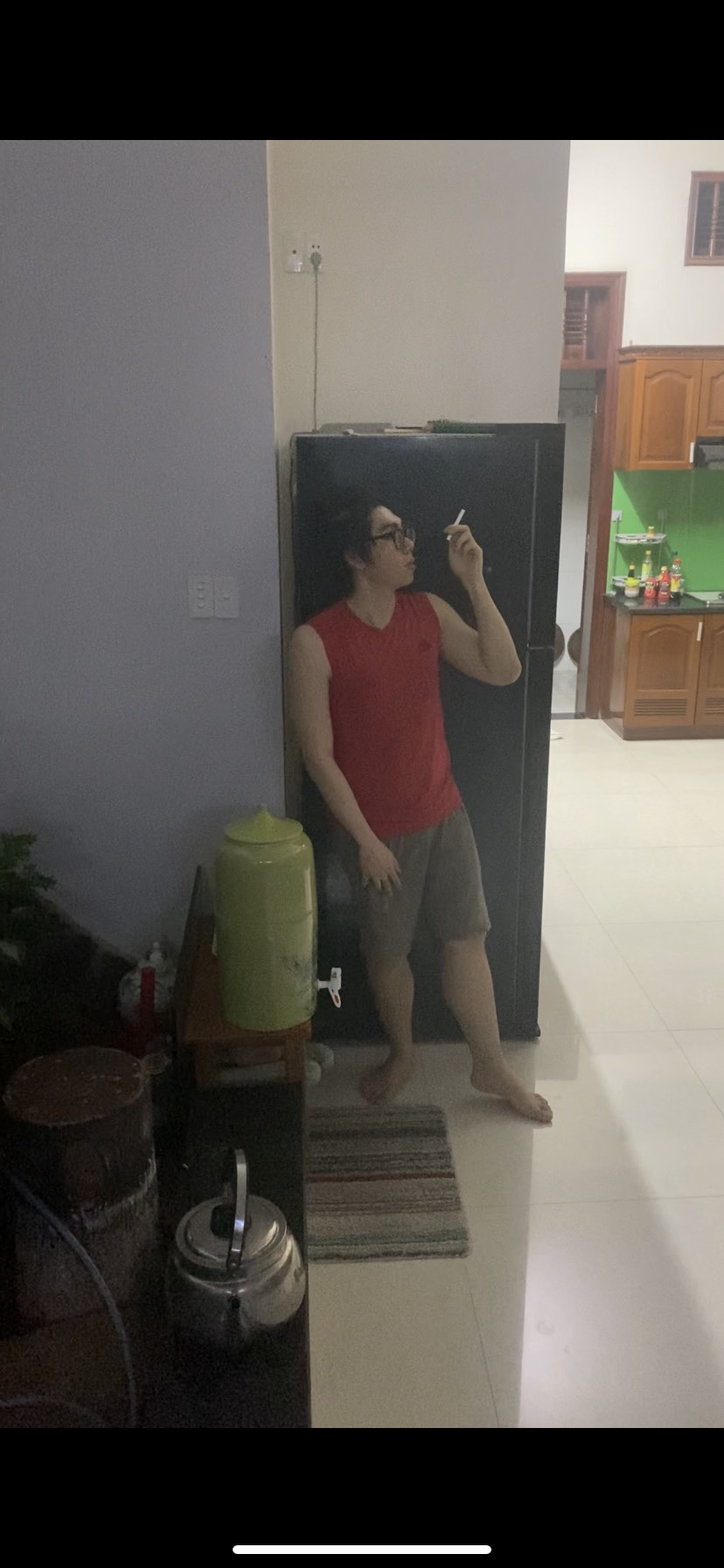cigarette: (452, 505, 470, 527)
person: (284, 482, 568, 1124)
